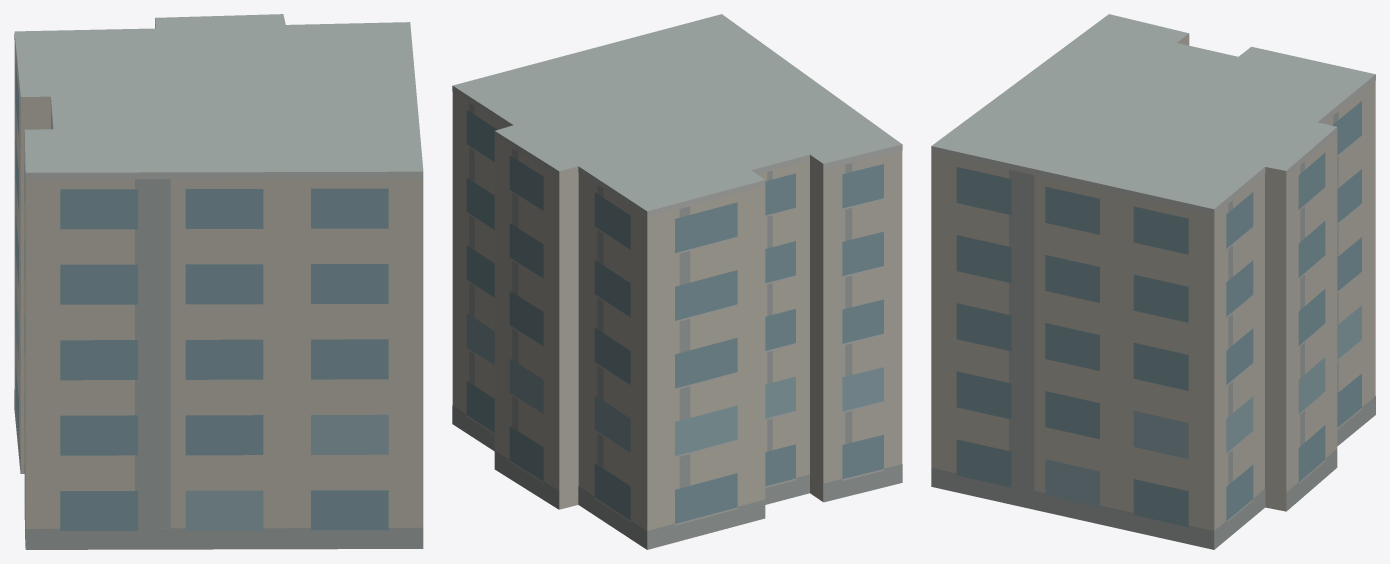
Rendered from survey-upis-32974877.glb.
The picture shows the model from 3 angles, left to right: view 1: azimuth 30°, elevation 25°; view 2: azimuth 150°, elevation 25°; view 3: azimuth 270°, elevation 25°; orthographic projection. The views are drawn at different scales.
Visible parts, largest first — view 1: survey-upis-32974877.tmp; view 2: survey-upis-32974877.tmp; view 3: survey-upis-32974877.tmp.
Boxes of the visible parts, <box> form: survey-upis-32974877.tmp: <box>14,14,423,549</box>; survey-upis-32974877.tmp: <box>452,14,902,549</box>; survey-upis-32974877.tmp: <box>931,14,1375,549</box>.
Size of the model in its own units: 16.3 by 13.25 by 15.68.
